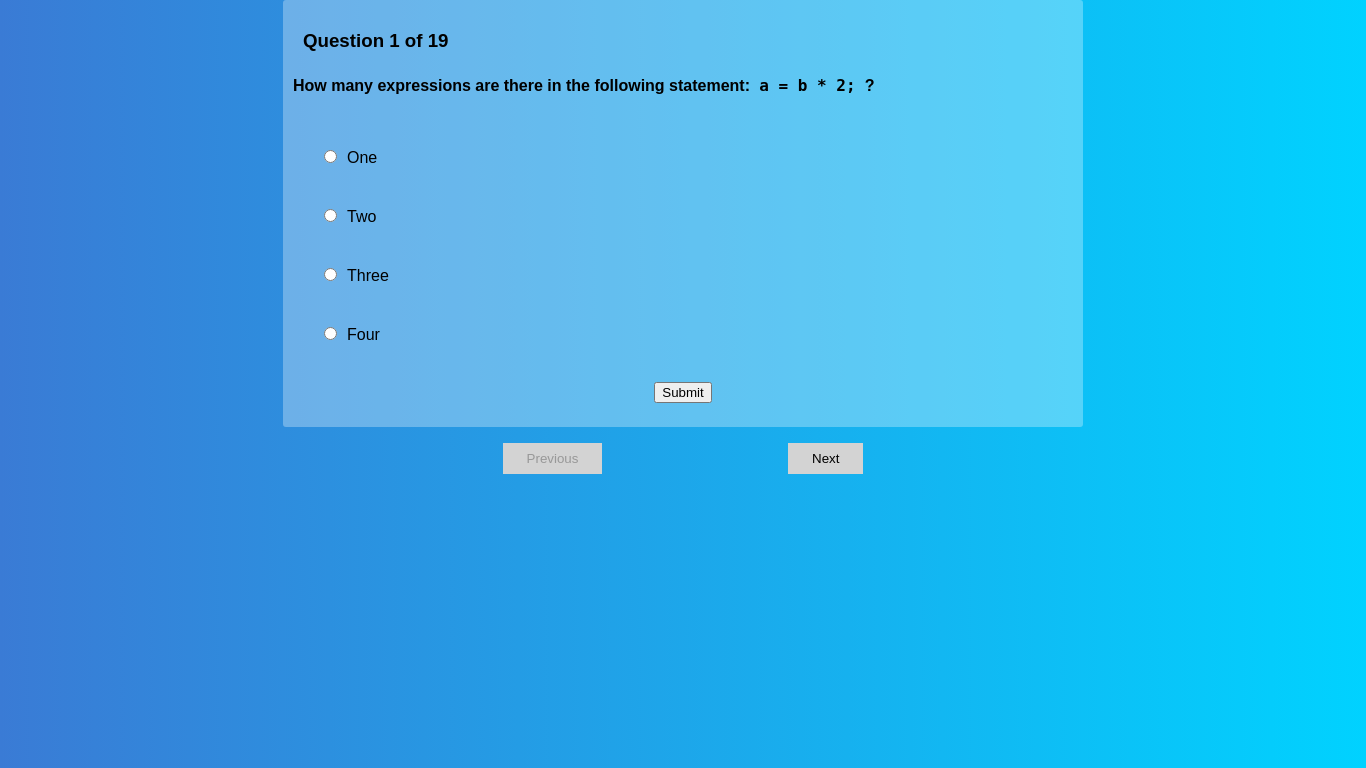
Test: should show "Incorrect" when incorrect answer is submitted
Click the radio button labelled "One". click: (330, 156)
box: [324, 150, 337, 163]
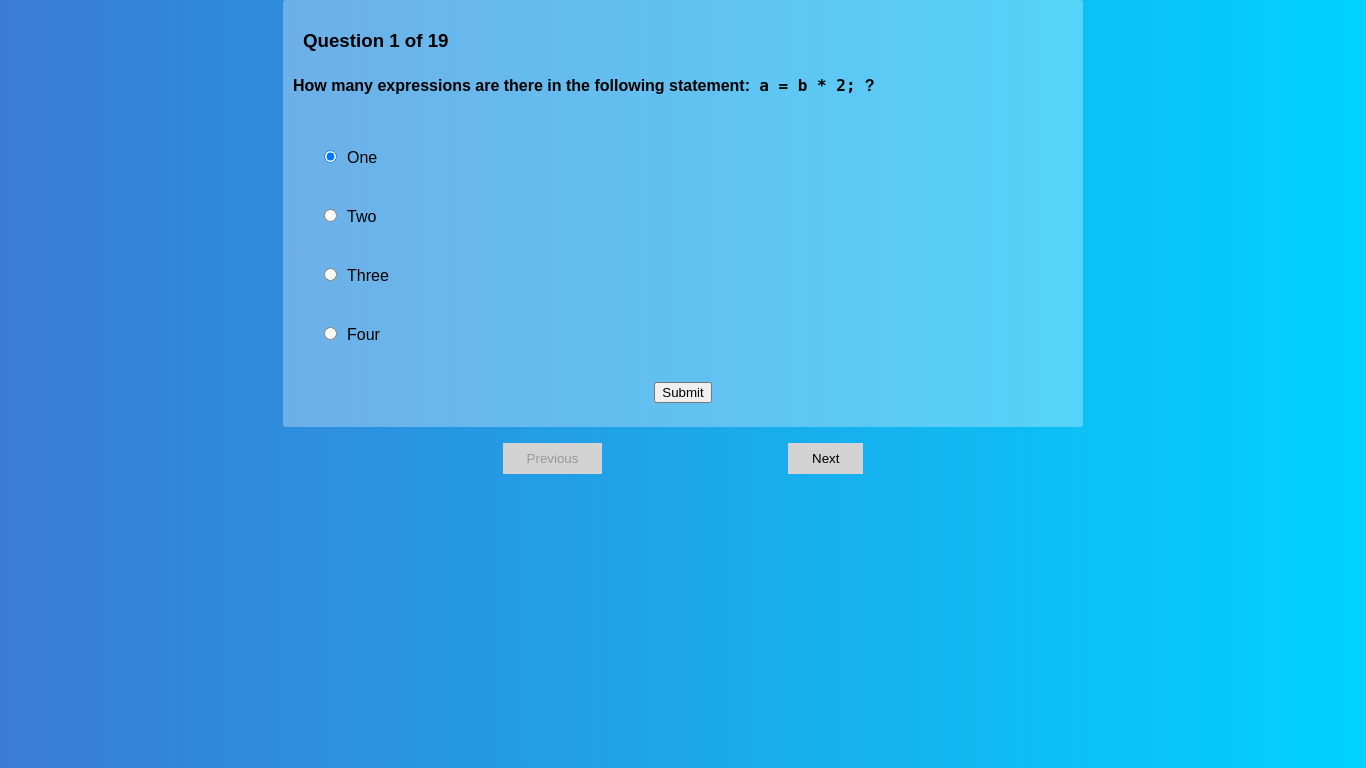
Click the button "Submit". click: (683, 392)
box: [654, 382, 712, 403]
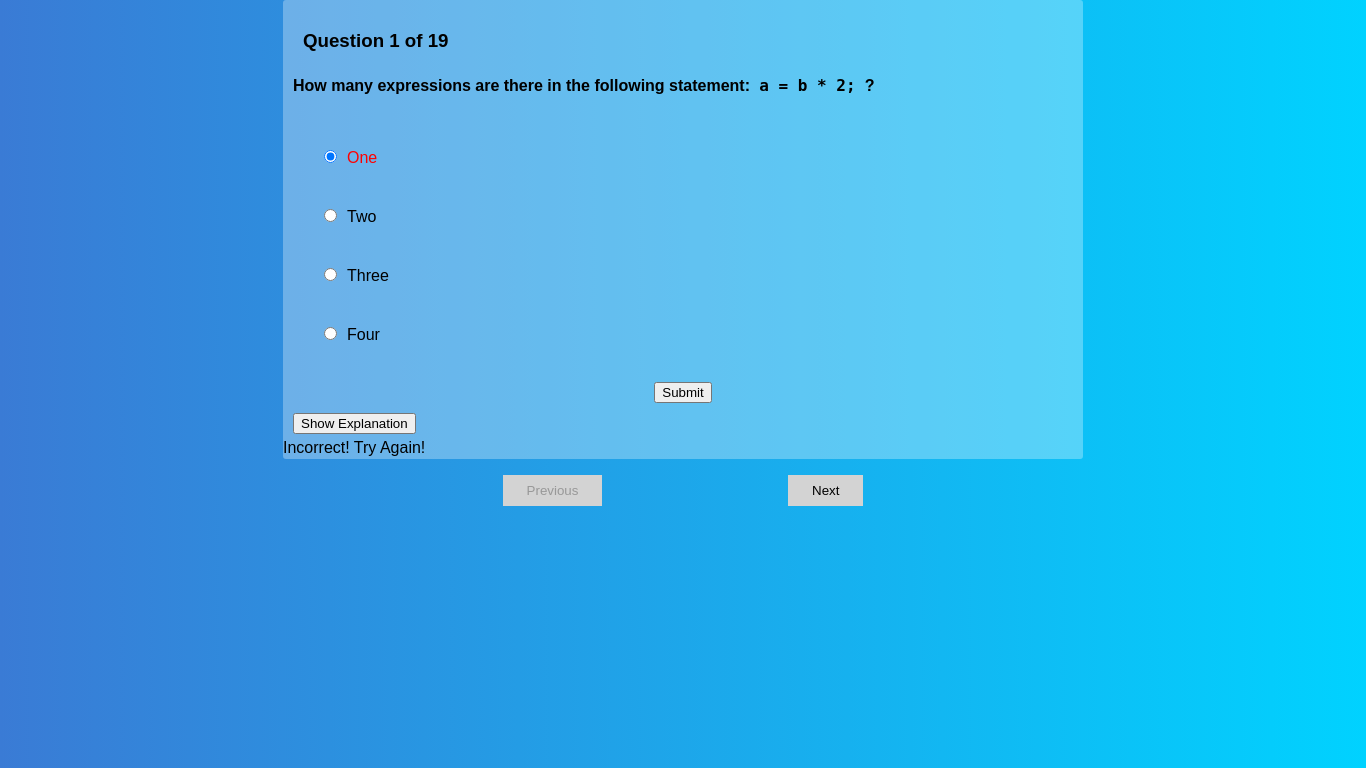
Check: the text "Incorrect! Try Again!" is shown, box [283, 439, 425, 456]
